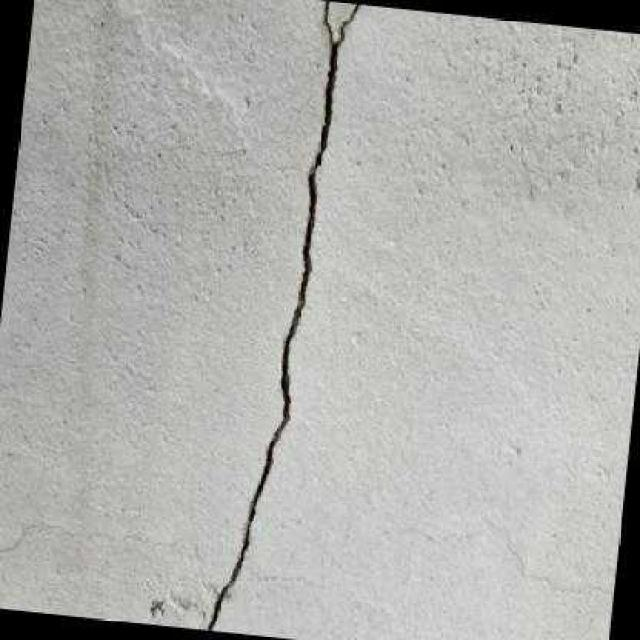D00: (203, 0, 360, 630)
